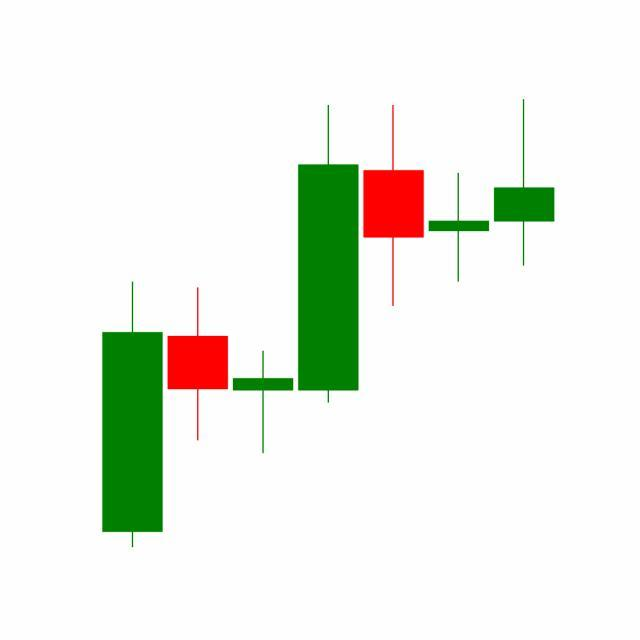Hikkake Pattern: (229, 100, 555, 459)
